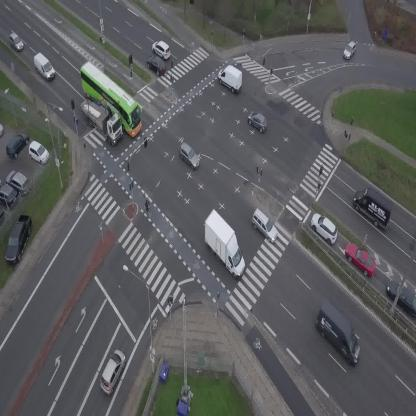bicycle: (142, 199, 153, 217)
bus: (71, 57, 153, 138)
car: (340, 237, 382, 281), (95, 347, 130, 396), (245, 207, 283, 245), (306, 209, 343, 247), (174, 141, 204, 171), (244, 108, 272, 134), (142, 52, 170, 78), (148, 37, 174, 62), (5, 31, 26, 54), (341, 40, 358, 60)
lorry: (190, 208, 260, 281), (304, 298, 372, 368), (73, 90, 131, 146), (346, 182, 400, 233), (213, 61, 248, 95), (29, 51, 59, 81)
